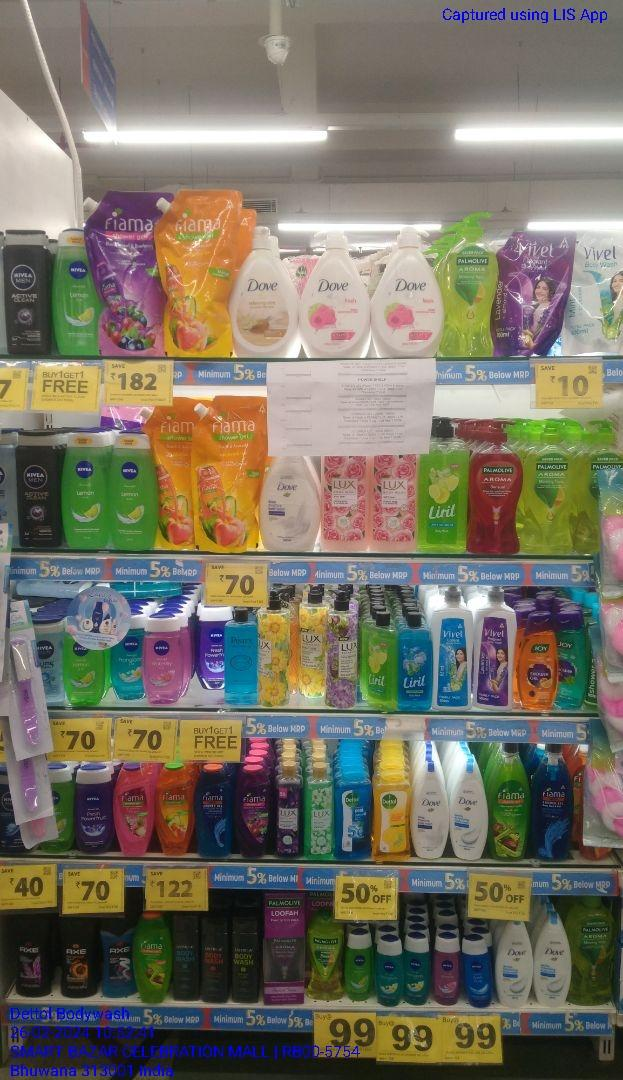Dettol_Bodywash_Cool: (339, 771, 373, 860)
Dettol_Bodywash_Refresh: (376, 772, 413, 861)
Dove_Deep_Moisture_Body_Wash_250ML: (415, 762, 449, 861)
Dove_Gentle_Exfoliating_Body_Wash_250ML: (536, 916, 573, 1007), (453, 760, 486, 861), (498, 920, 532, 1010)
Fiama_Shower_Gel_Patchouli_and_Macadamia_250ML: (114, 766, 150, 856)
Fiama_Shower_Gel_Peach_and_Avocado_250ML: (155, 764, 190, 855)
Liril_Cooling_Mint_Body_Wash_250ML: (399, 611, 436, 711)
Liril_Lime_and_Tea_Tree_Oil_Body_Wash_250ML: (364, 611, 394, 709)
Lux_Black_Orchid_Scent_and_Juniper_Oil_Body_Wash_245ML: (272, 763, 302, 858)
Lux_Body_Wash_Skin_Detox_Freesia_Scent_and_Alove_Vera_245ML: (307, 764, 336, 859)
Nivea_Shower_Gel_Frangipani_and_Oil_250ML: (111, 631, 142, 704), (376, 935, 403, 1008), (406, 937, 429, 1006)
Nivea_Shower_Gel_Fresh_Powerfruit_250ML: (436, 934, 461, 1006)
Nivea_Shower_Gel_Lemon_and_Oil_250ML: (57, 230, 100, 356), (110, 431, 154, 553), (62, 432, 106, 548), (63, 641, 100, 708), (346, 932, 371, 1002)
Nivea_Shower_Gel_Waterlily_and_Oil_250ML: (143, 619, 183, 704)
Pears_Pure_Glycerin_and_Mint_Extracts_Body_Wash_250ML: (222, 607, 260, 707)
